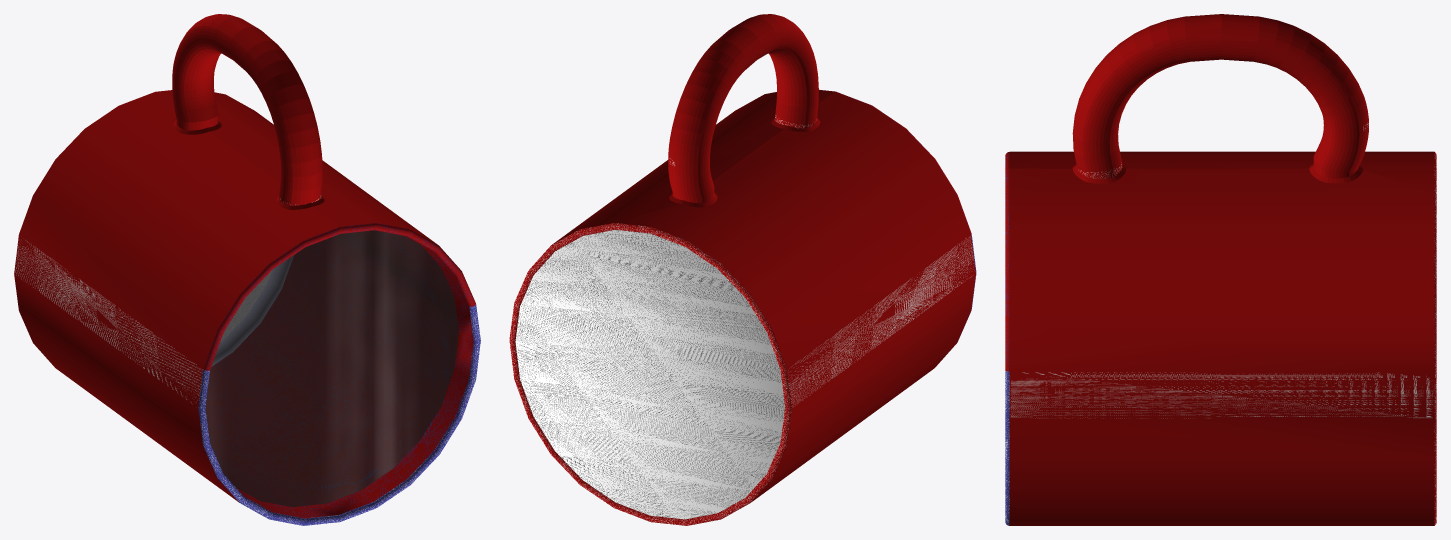
Rendered from model_scale.obj.
The picture shows the model from 3 angles, left to right: view 1: azimuth 30°, elevation 25°; view 2: azimuth 150°, elevation 25°; view 3: azimuth 270°, elevation 25°; orthographic projection. The views are drawn at different scales.
Parts seen in each view (by area): view 1: mesh6_mesh6-geometry, mesh7_mesh7-geometry; view 2: mesh6_mesh6-geometry; view 3: mesh6_mesh6-geometry.
Boxes of the visible parts, x1,y1,x2,y2 form: mesh6_mesh6-geometry: [14, 14, 480, 525]; mesh7_mesh7-geometry: [205, 230, 458, 507]; mesh6_mesh6-geometry: [509, 14, 976, 525]; mesh6_mesh6-geometry: [1005, 14, 1436, 525].
Bounding box in the file's own units: 0.086 × 0.1244 × 0.0988.
